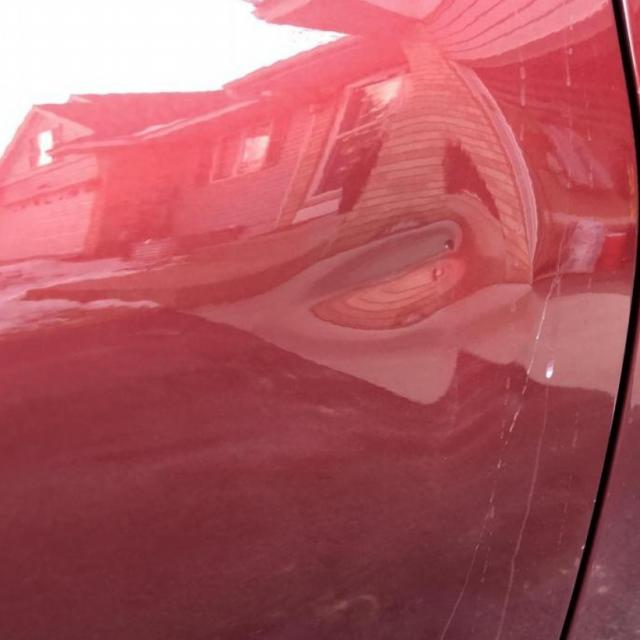dents: (291, 226, 480, 326)
